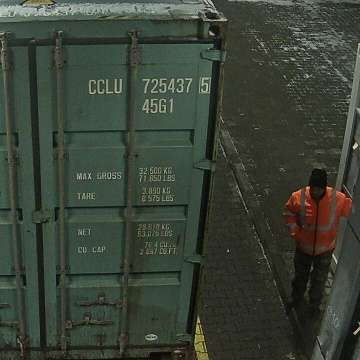serial_id: (88, 78, 209, 93)
